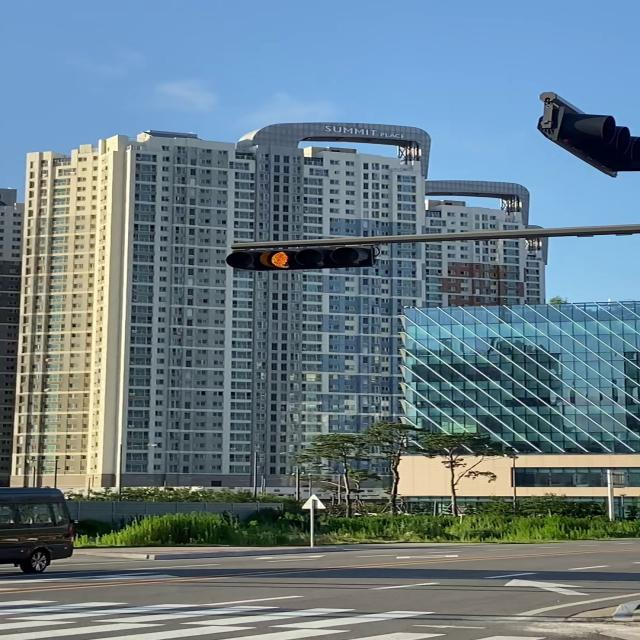yellow_light: (226, 244, 375, 272)
